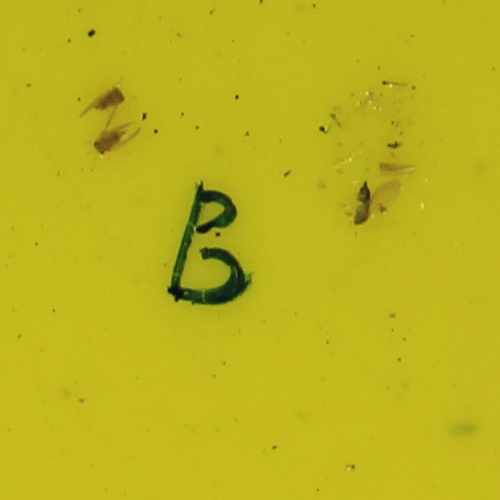psylla: (346, 180, 374, 230), (88, 78, 128, 112), (91, 123, 129, 157)
